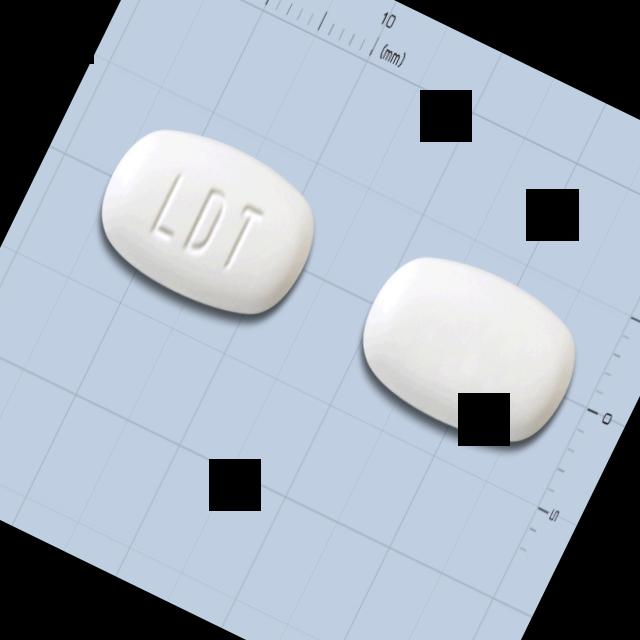Sebivo Tab: (76, 103, 339, 341)
